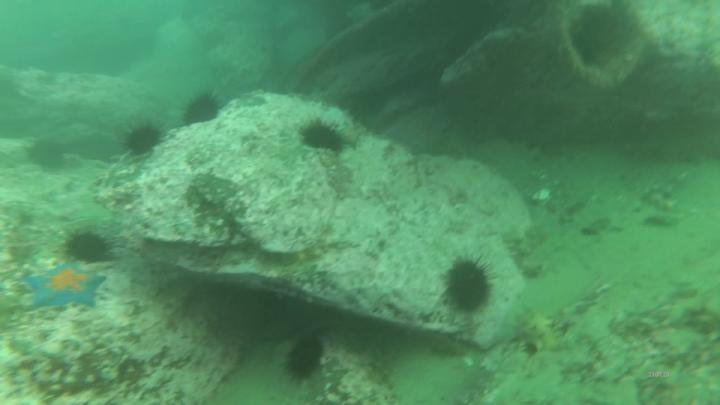echinus: (443, 258, 491, 319), (287, 332, 326, 383), (65, 227, 115, 266), (298, 119, 346, 157), (25, 140, 70, 177), (125, 123, 164, 160), (183, 93, 223, 128)
holothurian: (515, 307, 563, 356)
starfish: (26, 261, 106, 310)
